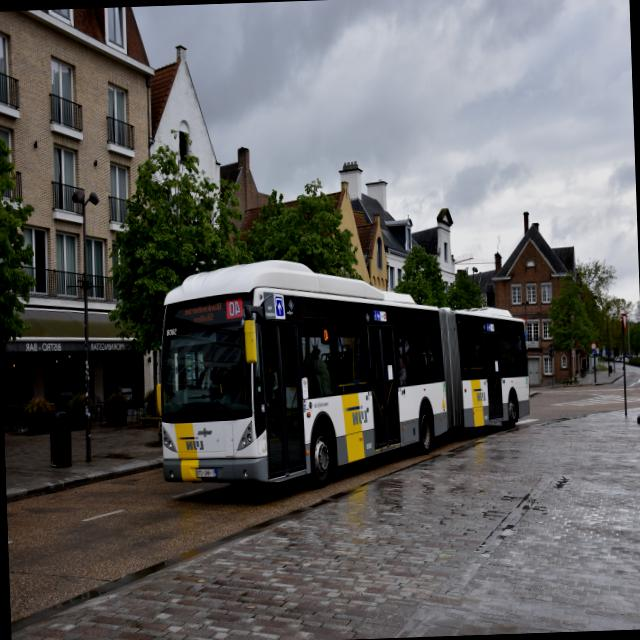bus-number: (228, 300, 241, 316)
